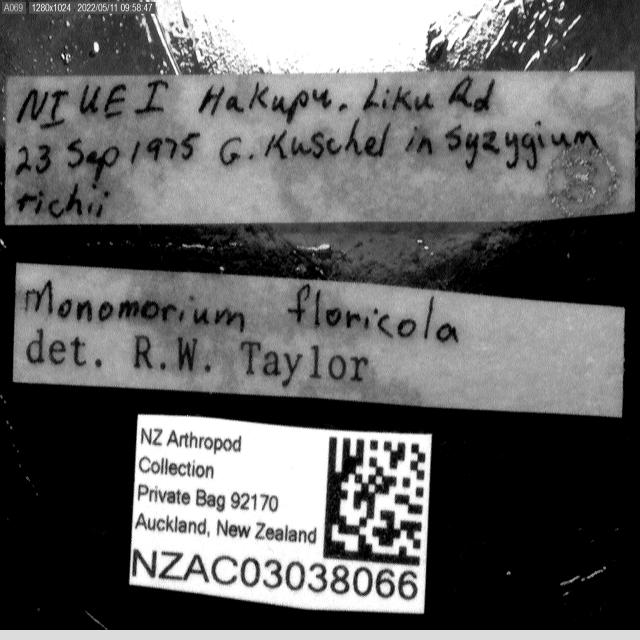hand_label: (5, 72, 635, 225)
mixed_label: (14, 264, 624, 417)
typed_label: (130, 414, 431, 612)
